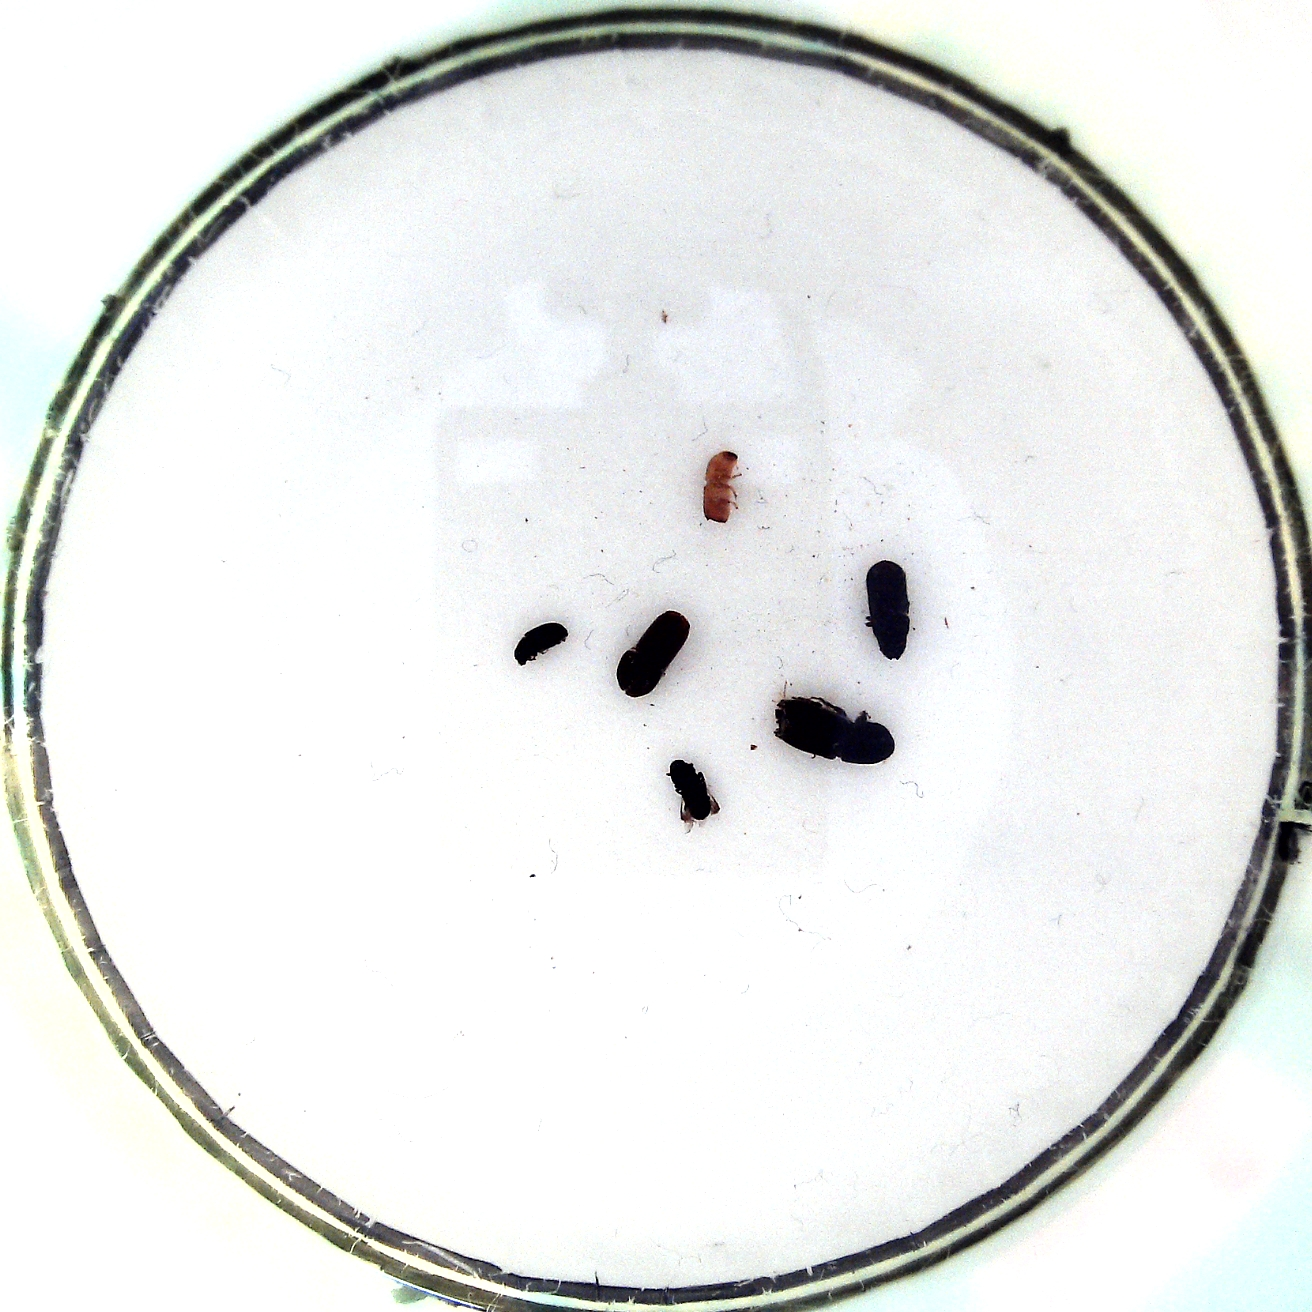Boerner: (764, 686, 902, 773)
Linnaeus: (613, 604, 694, 700)
acuminatus: (697, 443, 749, 527)
armandi: (861, 557, 920, 664)
coleoptera: (661, 756, 723, 833), (511, 616, 574, 666)
